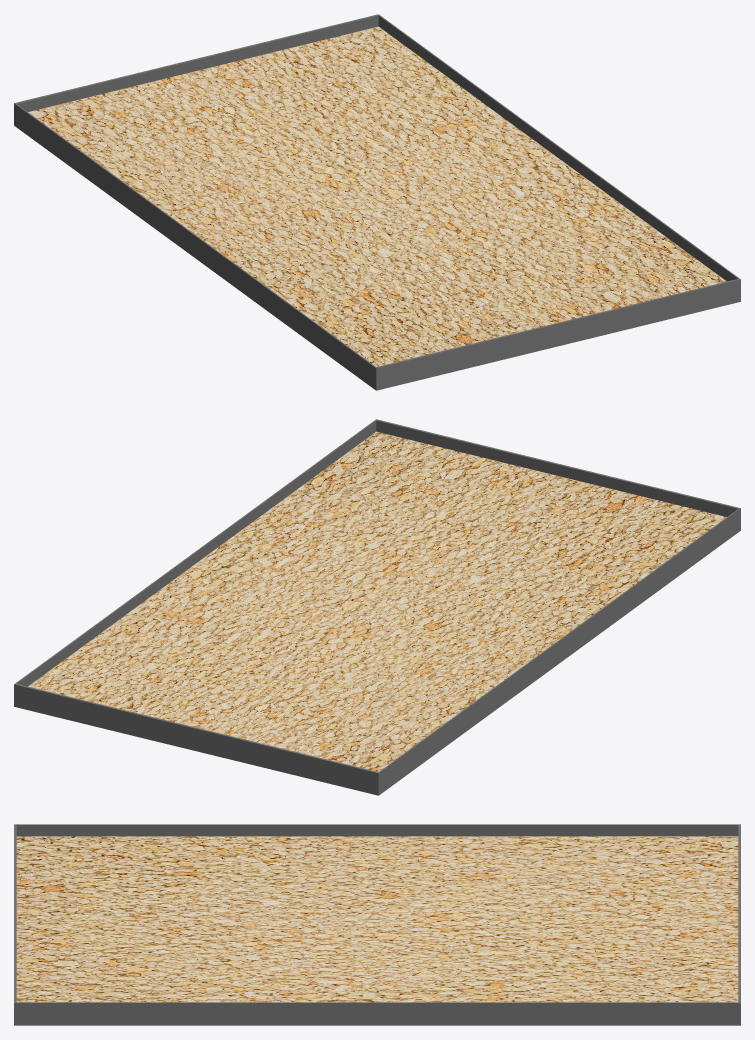
Rendered from Tepung Roti.fbx.
The picture shows the model from 3 angles, top to bottom: view 1: azimuth 30°, elevation 25°; view 2: azimuth 150°, elevation 25°; view 3: azimuth 270°, elevation 25°; orthographic projection.
Visible parts, largest first — view 1: Plane, Cube; view 2: Plane, Cube; view 3: Plane, Cube.
Part boxes in pixels (x1,y1,x2,y2): Plane: (28,26,726,366); Cube: (14,14,740,390); Plane: (28,431,726,771); Cube: (14,419,740,795); Plane: (16,836,738,1002); Cube: (14,824,740,1025).
Bounding box in the file's own units: 116 × 6.83 × 200.
